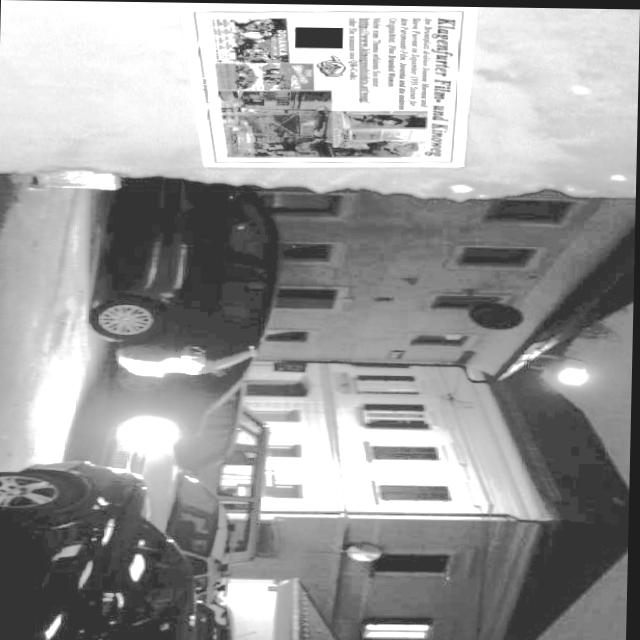qr_code: (294, 25, 343, 48)
